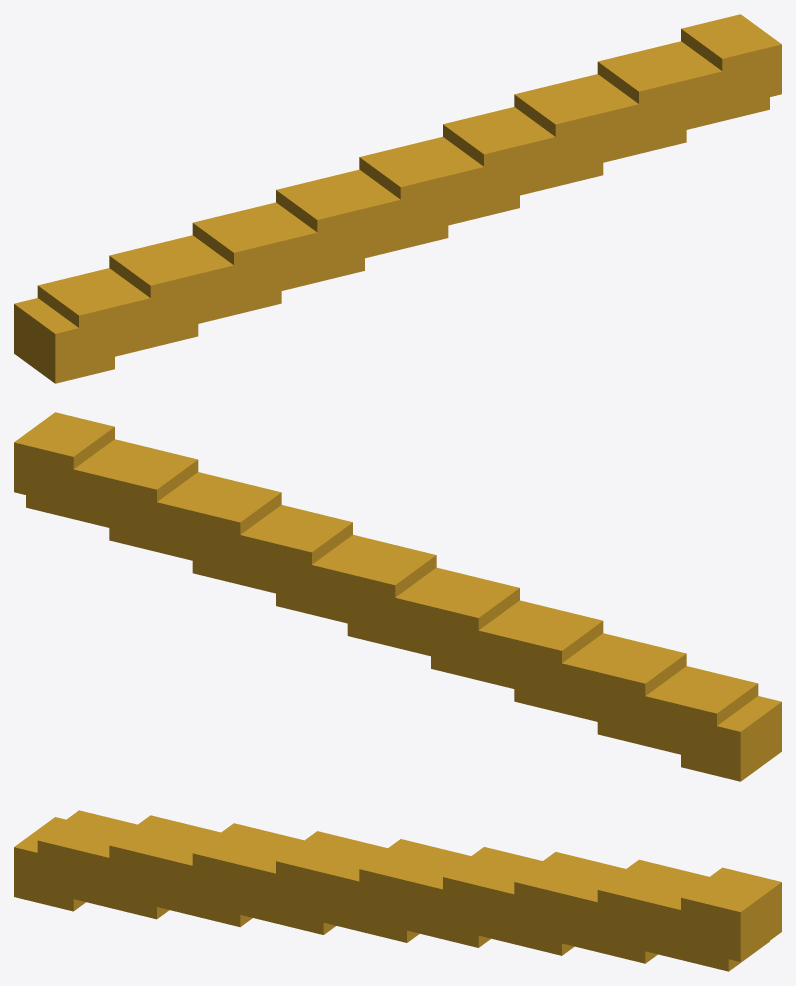
The model's file is hoist_boom_extension.glb.
The picture shows the model from 3 angles, top to bottom: view 1: azimuth 30°, elevation 25°; view 2: azimuth 150°, elevation 25°; view 3: azimuth 330°, elevation 25°; orthographic projection.
Visible parts, largest first — view 1: body:compound; view 2: body:compound; view 3: body:compound.
Part boxes in pixels (left/top/right/bottom): body:compound: left=14, top=14, right=781, bottom=383; body:compound: left=14, top=412, right=781, bottom=781; body:compound: left=14, top=810, right=781, bottom=971.
Bounding box in the file's own units: 1.91 × 0.4062 × 0.1875.
